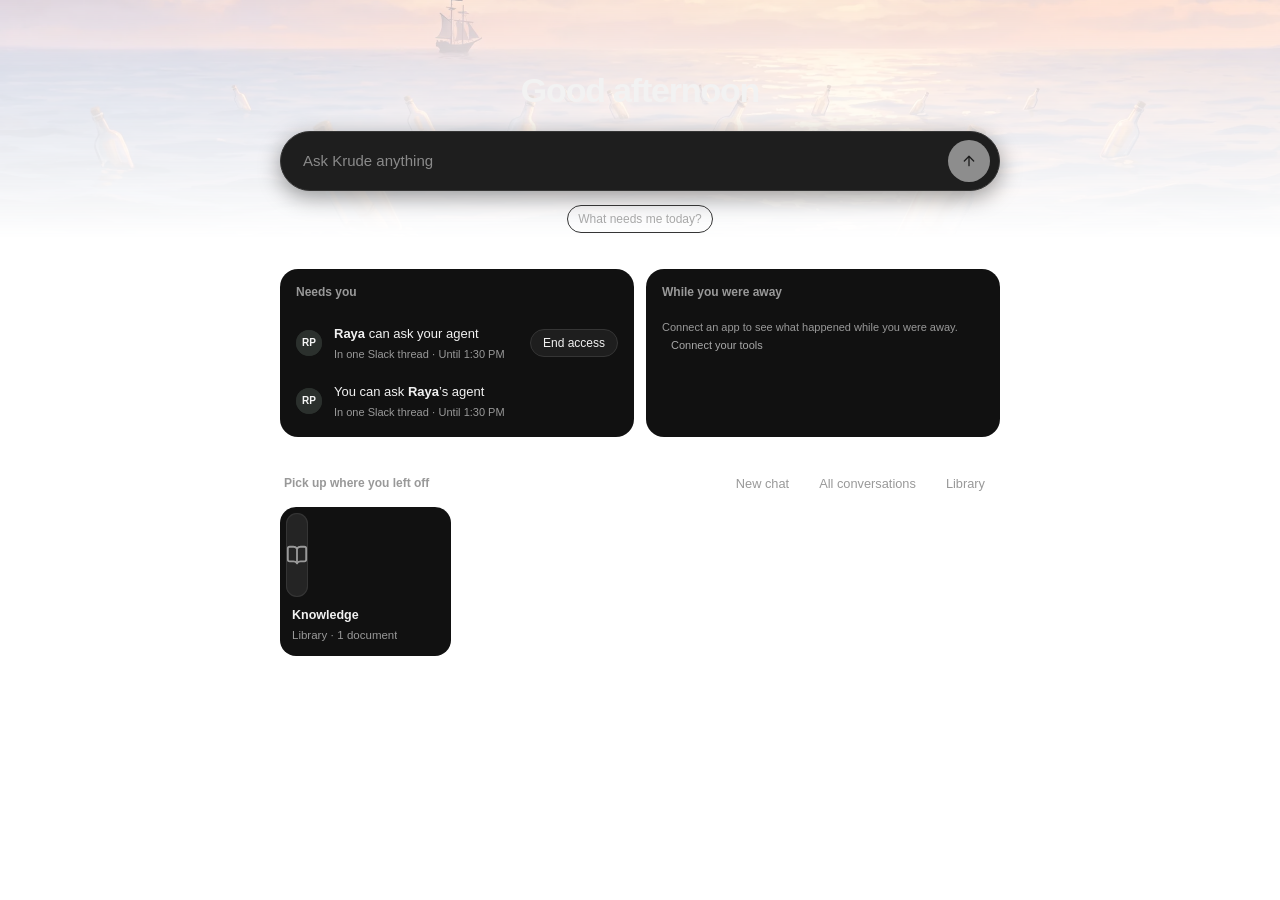
Test: exposes End access only on owned revocable active windows and settles the server winning lease
Expected: the text "Raya can ask your agent" is shown, [334,326,478,340]
Expected: the list item that starts with "Raya" shows "Raya can ask your agent", [286,315,628,371]
Click the button "End access" at (574, 343), box [530,329,618,357]
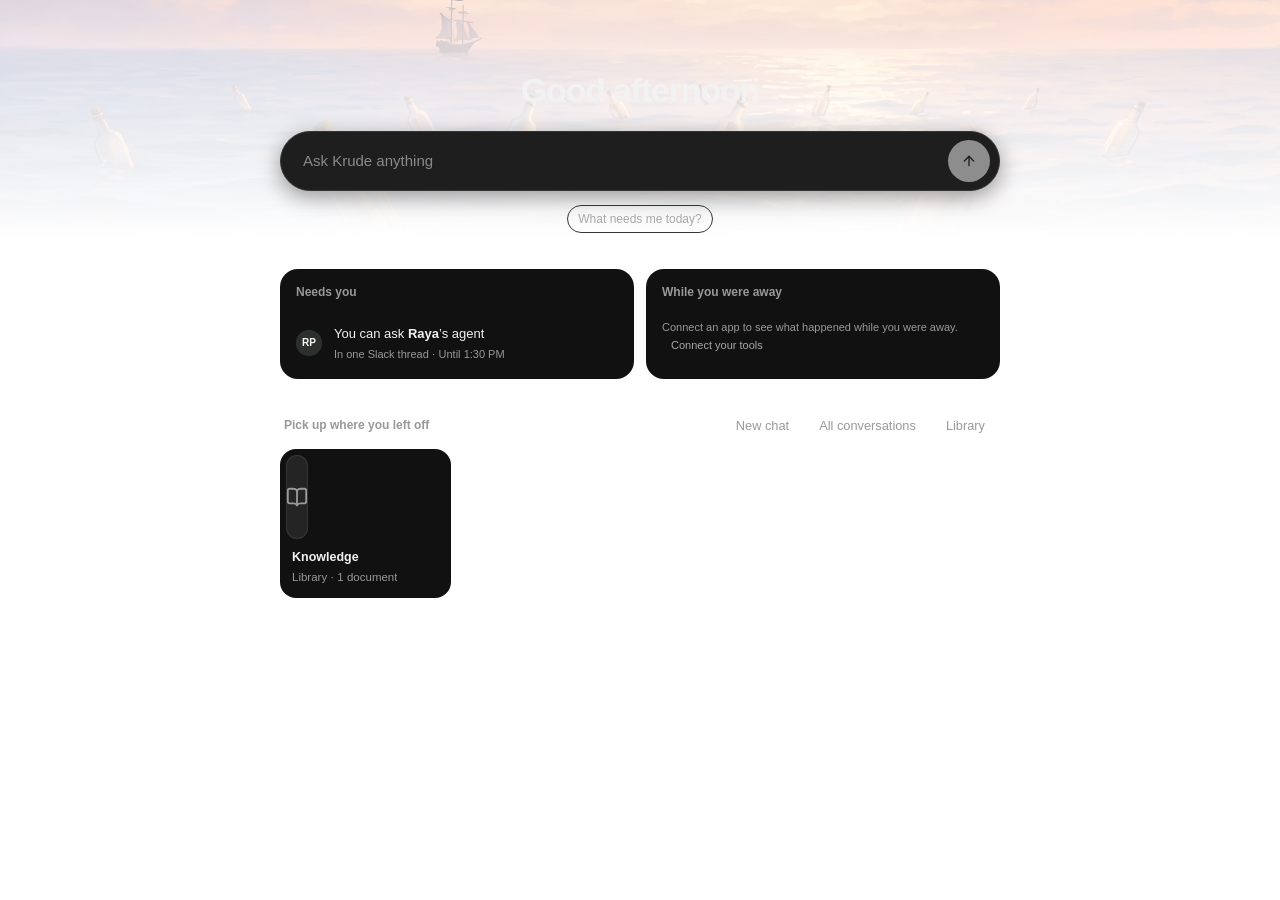
Result: the button "End access" is gone
